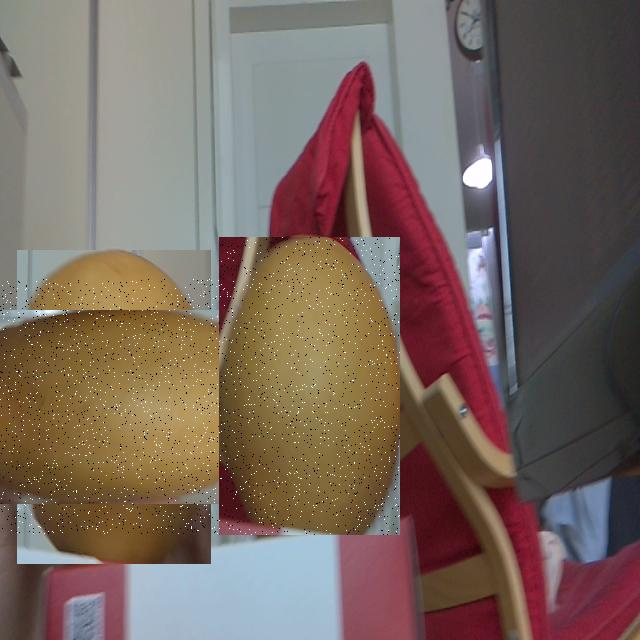pear: (0, 279, 241, 534), (219, 237, 400, 535)
